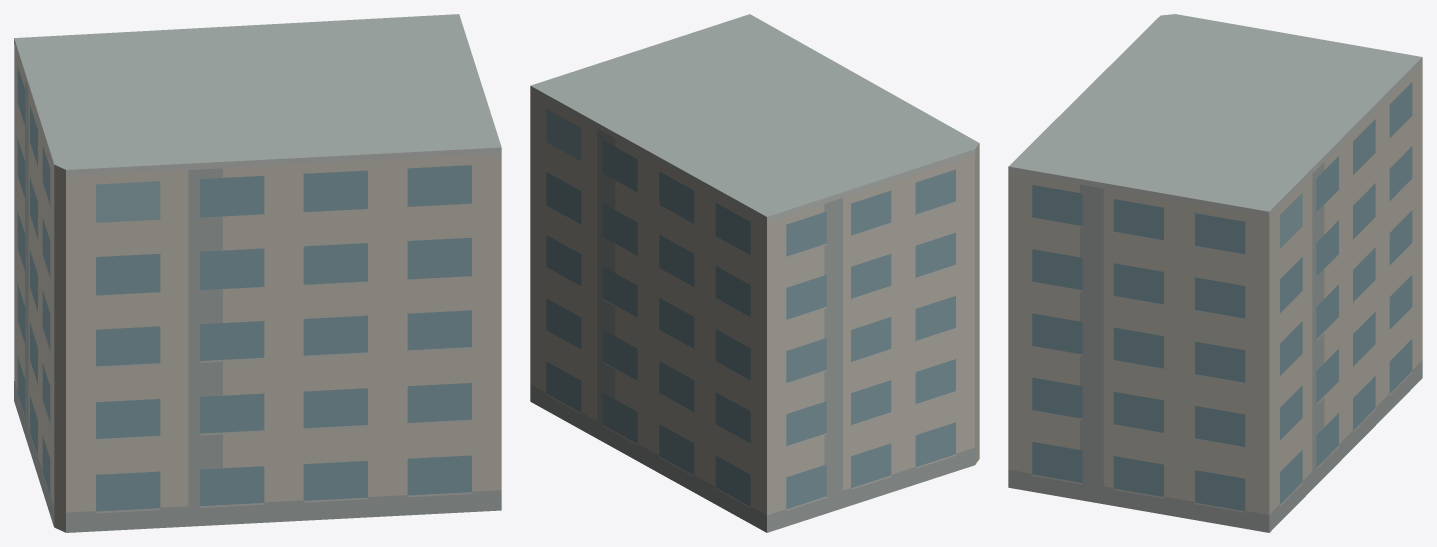
File: survey-upis-32801171.glb
3 views of the same model, side by side, from view 1: azimuth 30°, elevation 25°; view 2: azimuth 150°, elevation 25°; view 3: azimuth 270°, elevation 25° (orthographic). The views are drawn at different scales.
Parts seen in each view (by area): view 1: survey-upis-32801171.tmp; view 2: survey-upis-32801171.tmp; view 3: survey-upis-32801171.tmp.
Boxes of the visible parts, x1,y1,x2,y2 form: survey-upis-32801171.tmp: (14,14,501,532); survey-upis-32801171.tmp: (530,14,979,532); survey-upis-32801171.tmp: (1008,14,1422,532).
Size of the model in its own units: 18.23 by 13.8 by 16.14.
